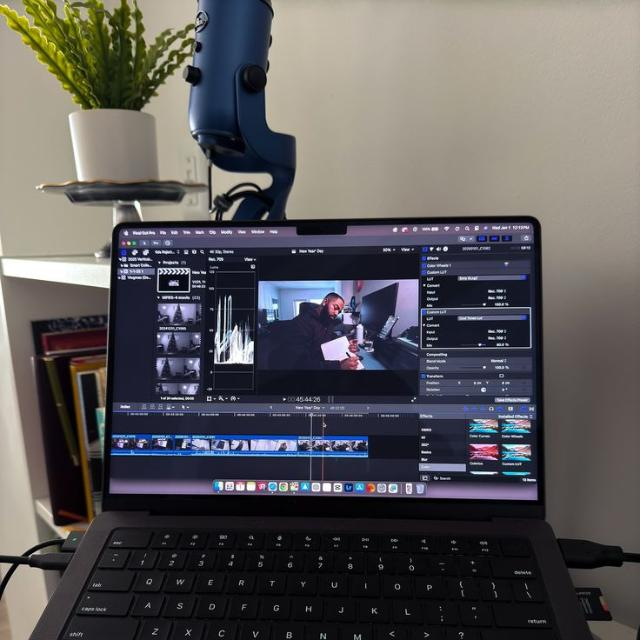laptop: (104, 220, 556, 640)
